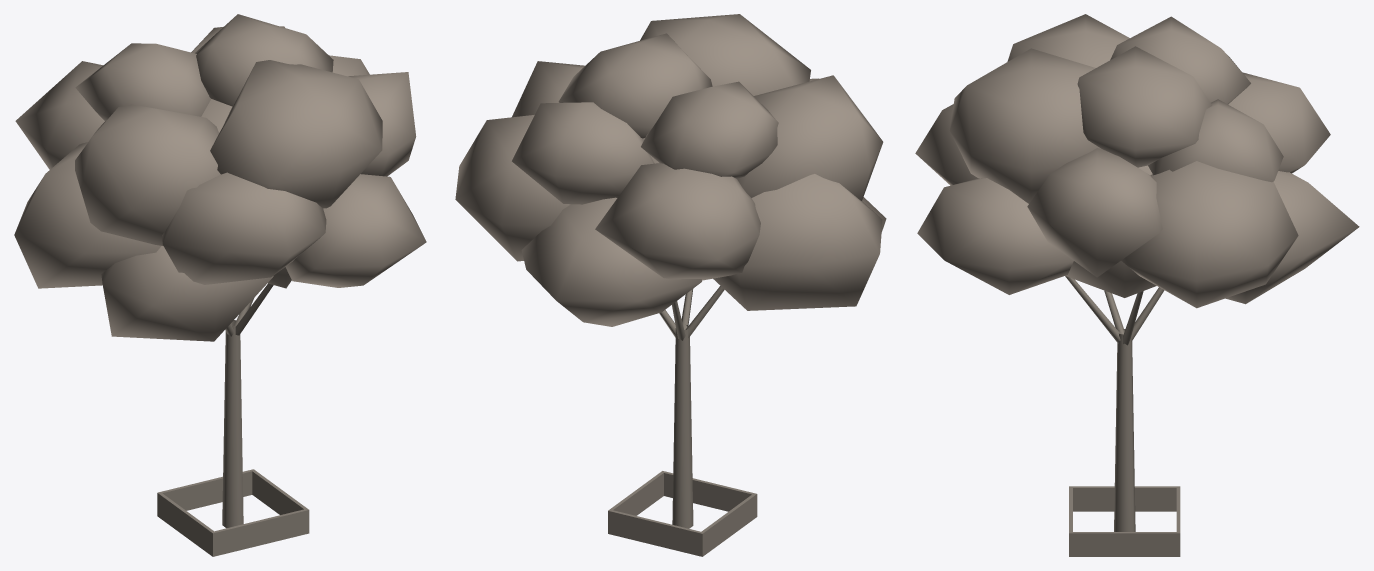
Rendered from tree_b.glb.
3 renders of one model, left to right at view 1: azimuth 30°, elevation 25°; view 2: azimuth 150°, elevation 25°; view 3: azimuth 270°, elevation 25°, orthographic.
Parts seen in each view (by area): view 1: tree_b; view 2: tree_b; view 3: tree_b.
Boxes of the visible parts, <box> form: tree_b: <box>14,14,426,556</box>; tree_b: <box>455,14,886,556</box>; tree_b: <box>915,14,1359,556</box>.
Size of the model in its own units: 6.25 by 7.22 by 5.99.
